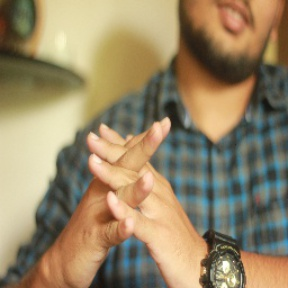W: (72, 97, 182, 272)
